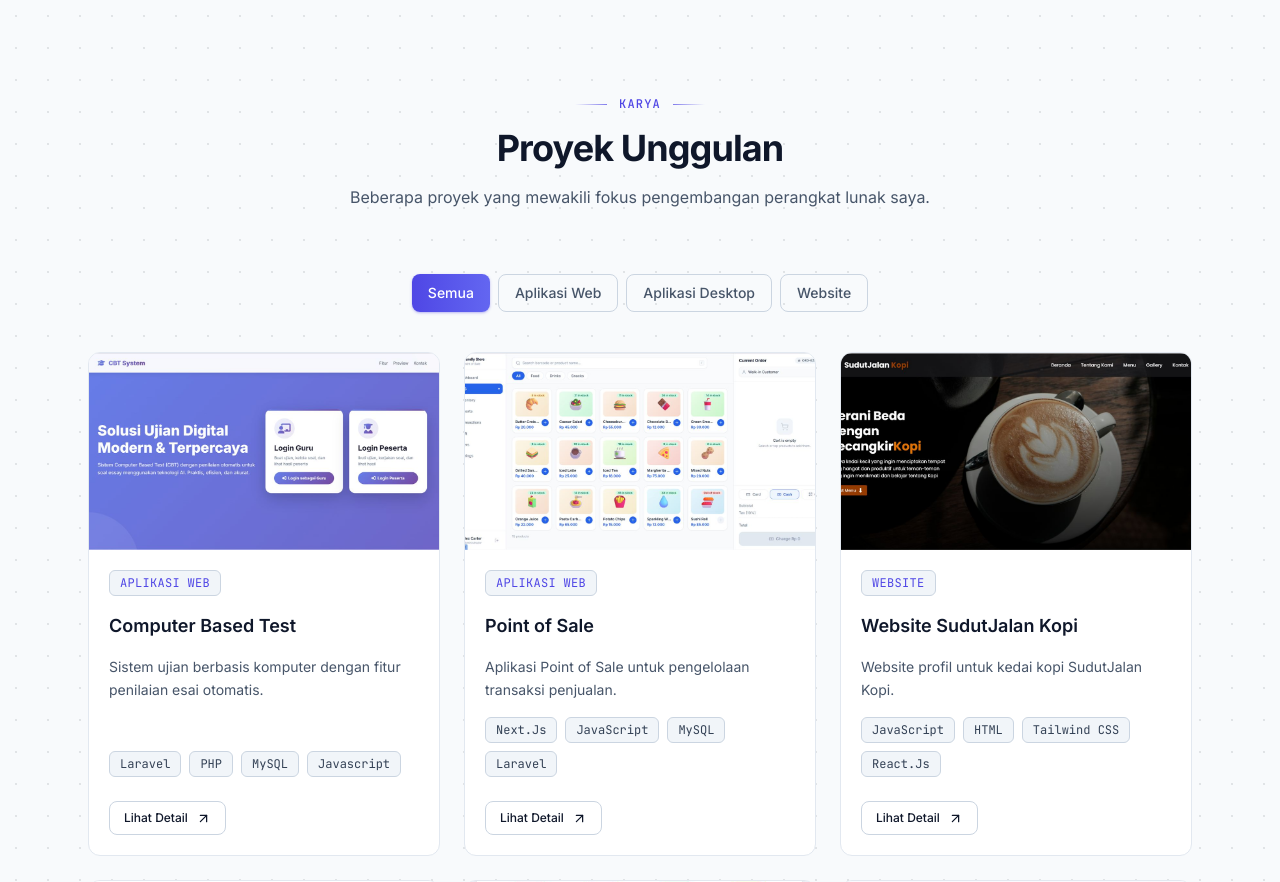
Section Projects — filter, empty state, modal › memfilter proyek berdasarkan kategori
Click the button "Website". click: [824, 293]
box: [780,274,868,312]
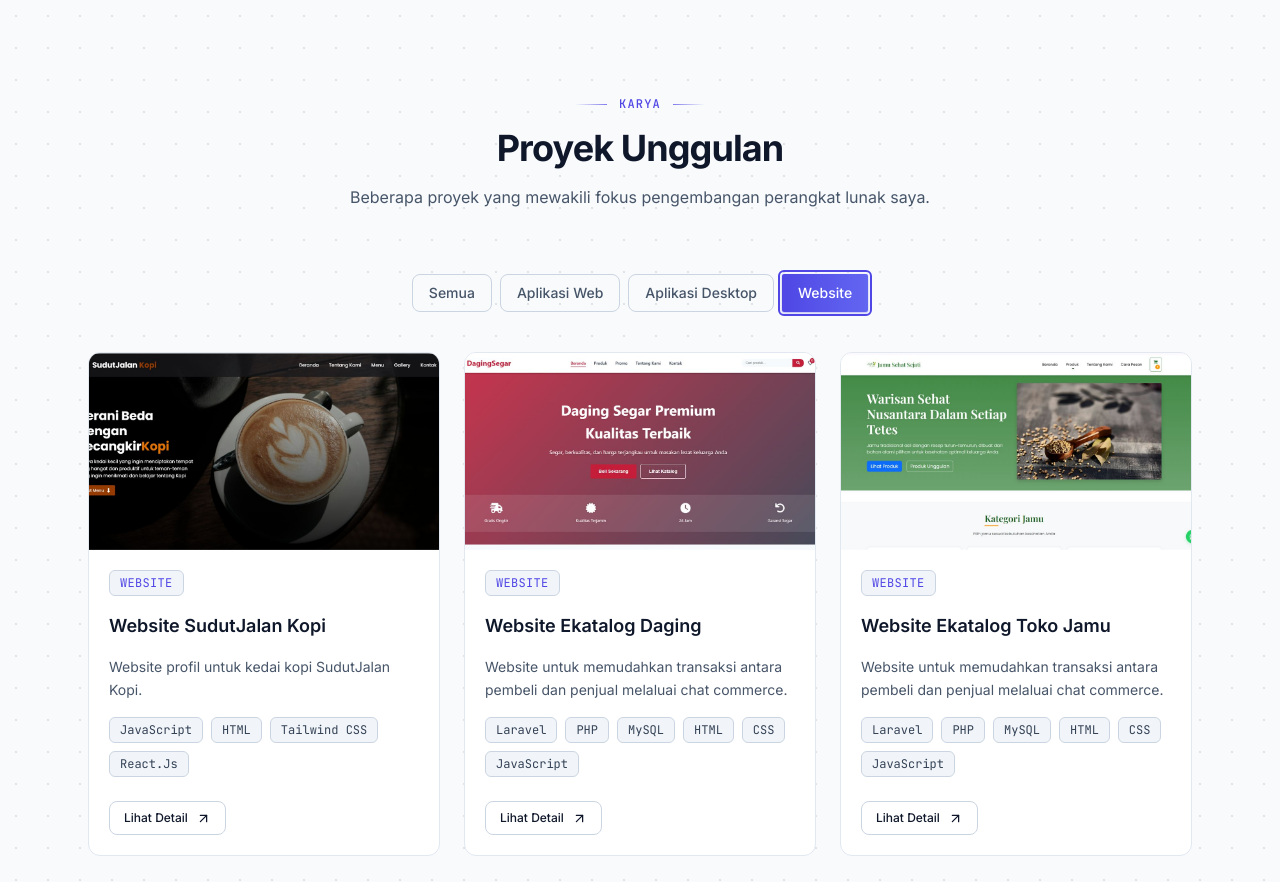
Check: the heading "Website SudutJalan Kopi" is shown, box [109,615,326,636]
Check: the heading "Point of Sale" is gone
